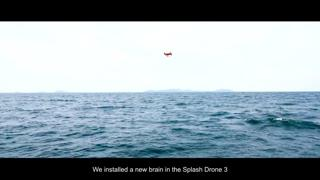UAV: (164, 52, 172, 58)
